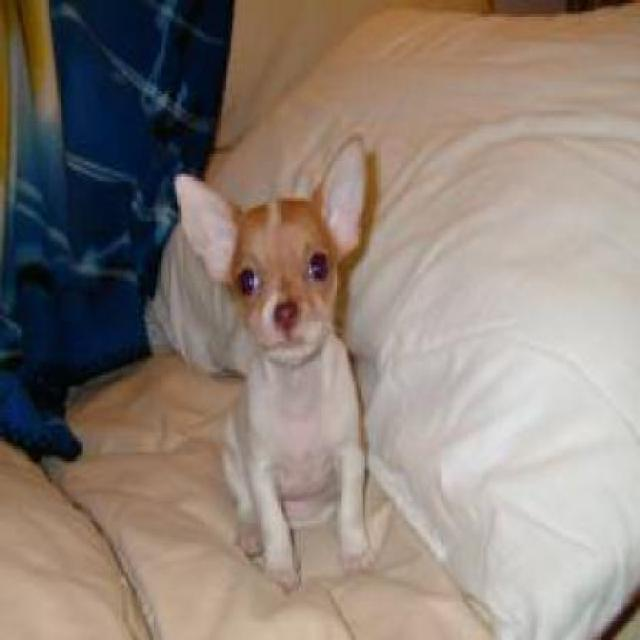Dog: (172, 130, 371, 592)
